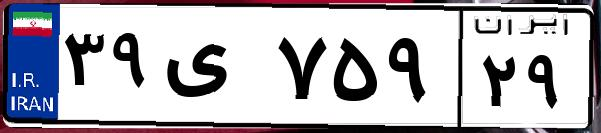2: (475, 38, 525, 113)
3: (57, 26, 110, 100)
5: (330, 28, 385, 110)
7: (270, 28, 330, 110)
9: (385, 28, 445, 110), (525, 38, 570, 115), (110, 28, 158, 98)
ی: (158, 20, 270, 120)
